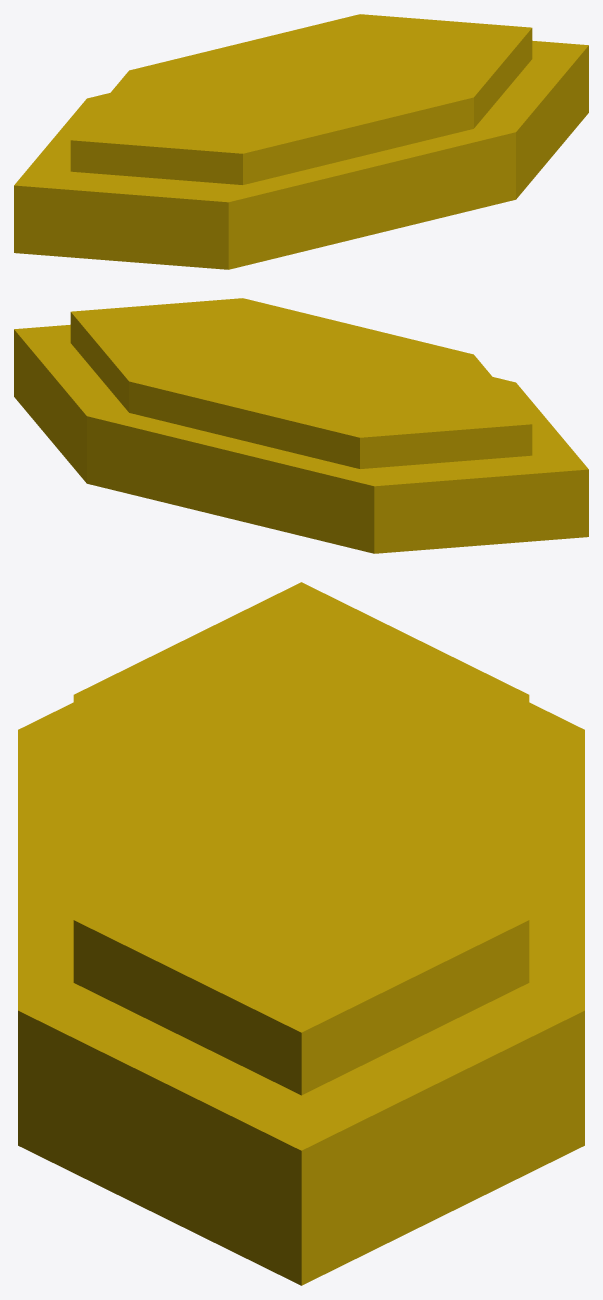
The model's file is PlatformRound.fbx.
3 renders of one model, top to bottom at view 1: azimuth 30°, elevation 25°; view 2: azimuth 150°, elevation 25°; view 3: azimuth 270°, elevation 25°, orthographic. The views are drawn at different scales.
Visible parts, largest first — view 1: PlatformRound; view 2: PlatformRound; view 3: PlatformRound.
Part boxes in pixels (left/top/right/bottom): PlatformRound: left=14, top=14, right=588, bottom=269; PlatformRound: left=14, top=298, right=588, bottom=553; PlatformRound: left=18, top=582, right=584, bottom=1285.
Bounding box in the file's own units: 4.24 × 0.697 × 1.81.
